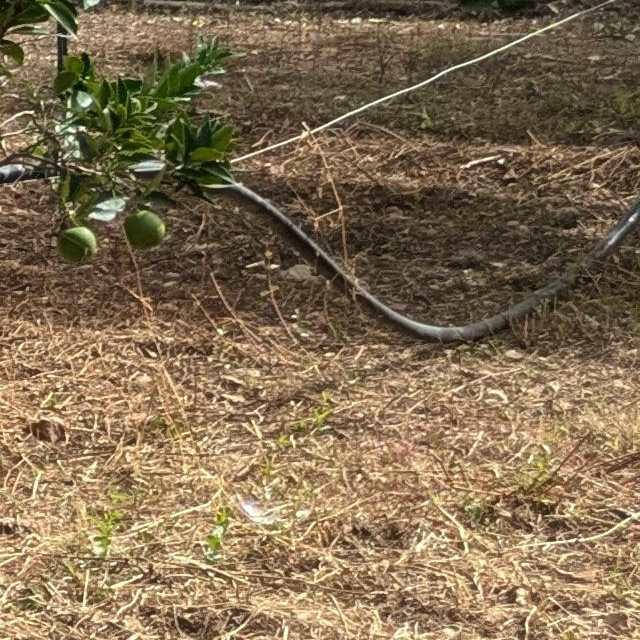orange: (49, 231, 103, 269), (130, 212, 178, 246), (494, 0, 534, 10)
